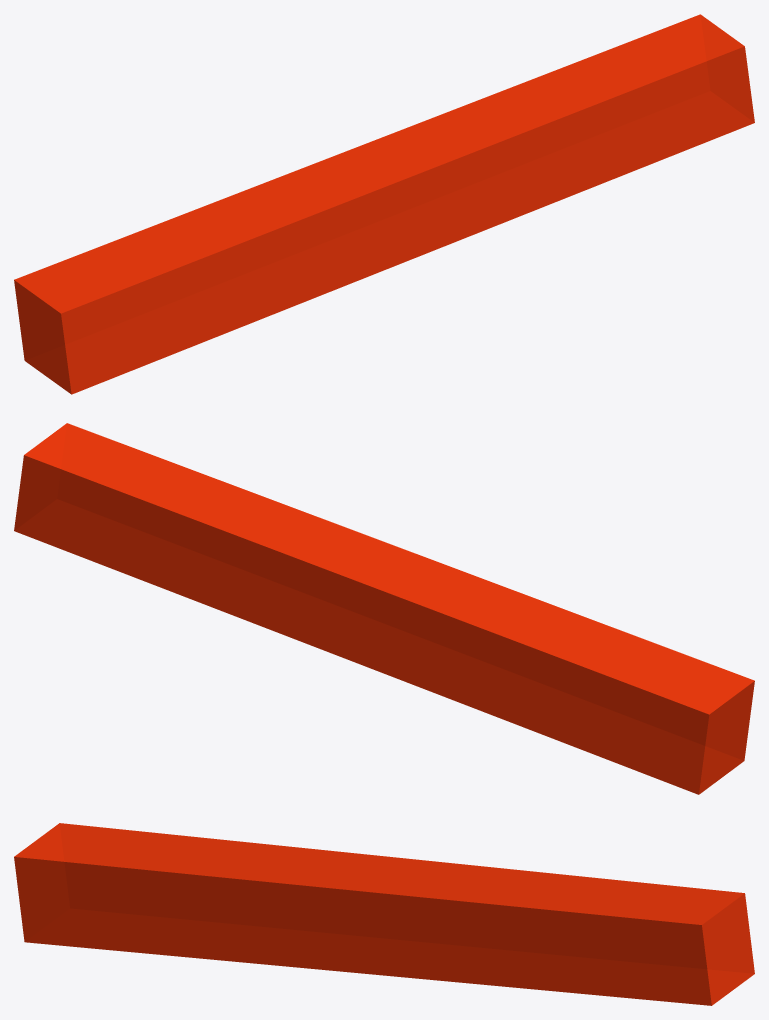
File: Event_421364160_EErechit_31.fbx
3 renders of one model, top to bottom at view 1: azimuth 30°, elevation 25°; view 2: azimuth 150°, elevation 25°; view 3: azimuth 330°, elevation 25°, orthographic.
Parts seen in each view (by area): view 1: Model; view 2: Model; view 3: Model.
Part boxes in pixels (x1,y1,x2,y2): Model: [14, 14, 754, 394]; Model: [14, 423, 754, 794]; Model: [14, 823, 754, 1005].
Bounding box in the file's own units: 0.6659 × 0.163 × 0.0809.
